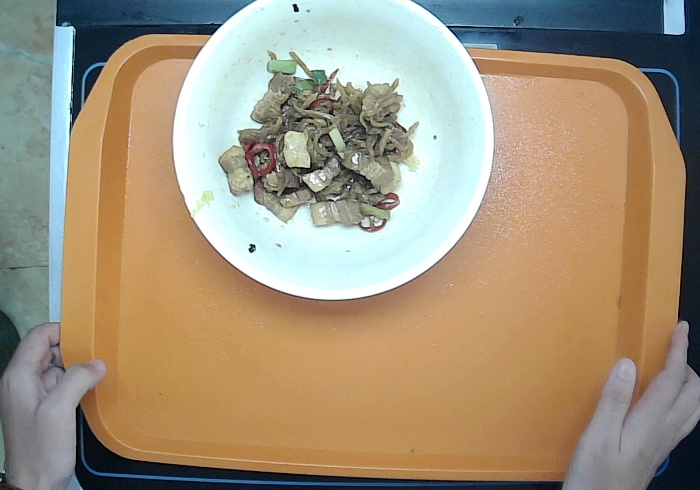ZNLD-Da_Tang_Wan: (169, 1, 497, 304)
